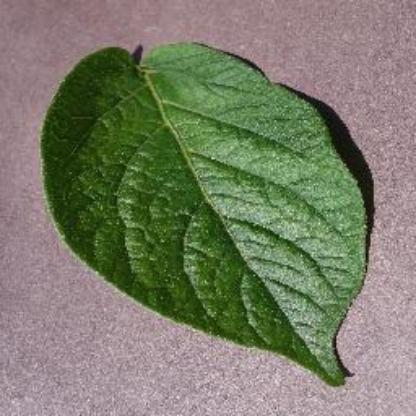Healthy-plant: (28, 36, 380, 378)
